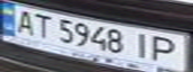4: (87, 24, 109, 52)
5: (51, 16, 75, 44)
8: (106, 26, 127, 55)
9: (69, 20, 93, 48)
A: (9, 7, 39, 36)
I: (127, 29, 157, 61)
P: (148, 34, 187, 64)
T: (30, 11, 57, 39)
